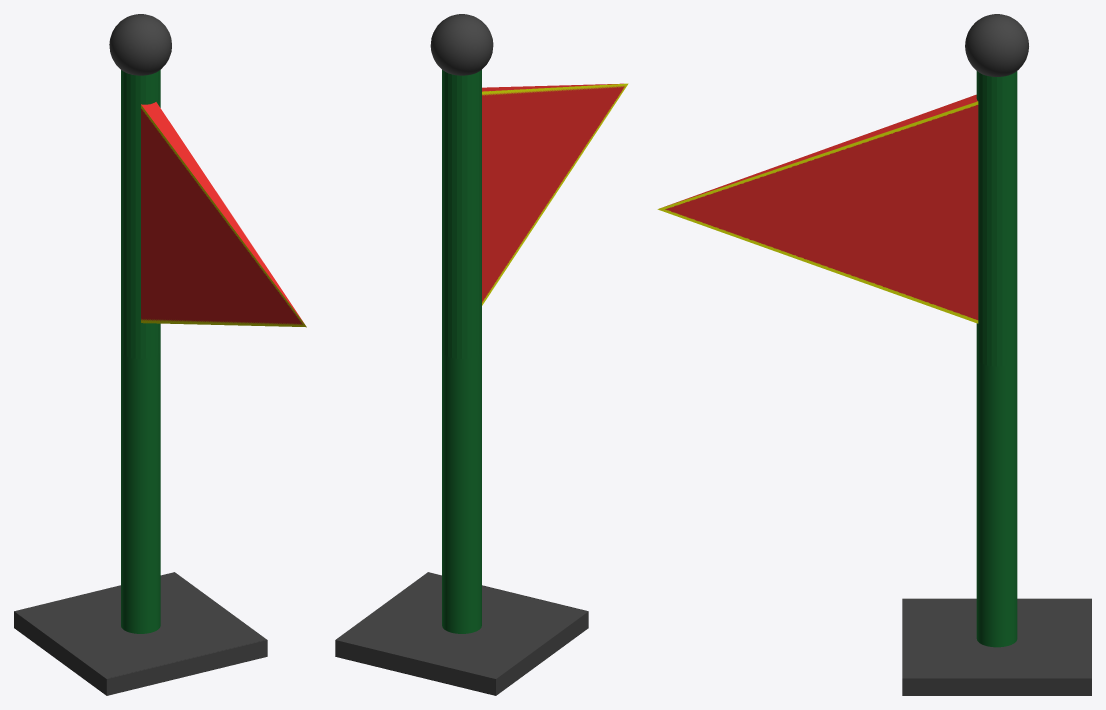
The model's file is Flag_pickup.FBX.
3 views of the same model, side by side, from view 1: azimuth 30°, elevation 25°; view 2: azimuth 150°, elevation 25°; view 3: azimuth 270°, elevation 25° (orthographic). The views are drawn at different scales.
Parts seen in each view (by area): view 1: Pyramid001, Cone001, Box001, Sphere001; view 2: Cone001, Box001, Pyramid001, Sphere001; view 3: Pyramid001, Cone001, Box001, Sphere001.
Part boxes in pixels (x1,y1,x2,y2): Pyramid001: [141, 102, 306, 327]; Cone001: [121, 70, 160, 633]; Box001: [14, 572, 267, 695]; Sphere001: [109, 14, 171, 75]; Cone001: [442, 70, 481, 633]; Box001: [335, 572, 588, 695]; Pyramid001: [482, 83, 628, 305]; Sphere001: [430, 14, 493, 75]; Pyramid001: [657, 94, 978, 323]; Cone001: [976, 71, 1017, 647]; Box001: [902, 598, 1091, 695]; Sphere001: [965, 14, 1028, 76].
Bounding box in the file's own units: 20 × 74.4 × 45.87.
Materials: 4 (4 with a texture image).
